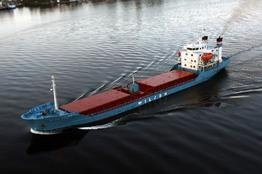Cargoship: (18, 29, 229, 131)
